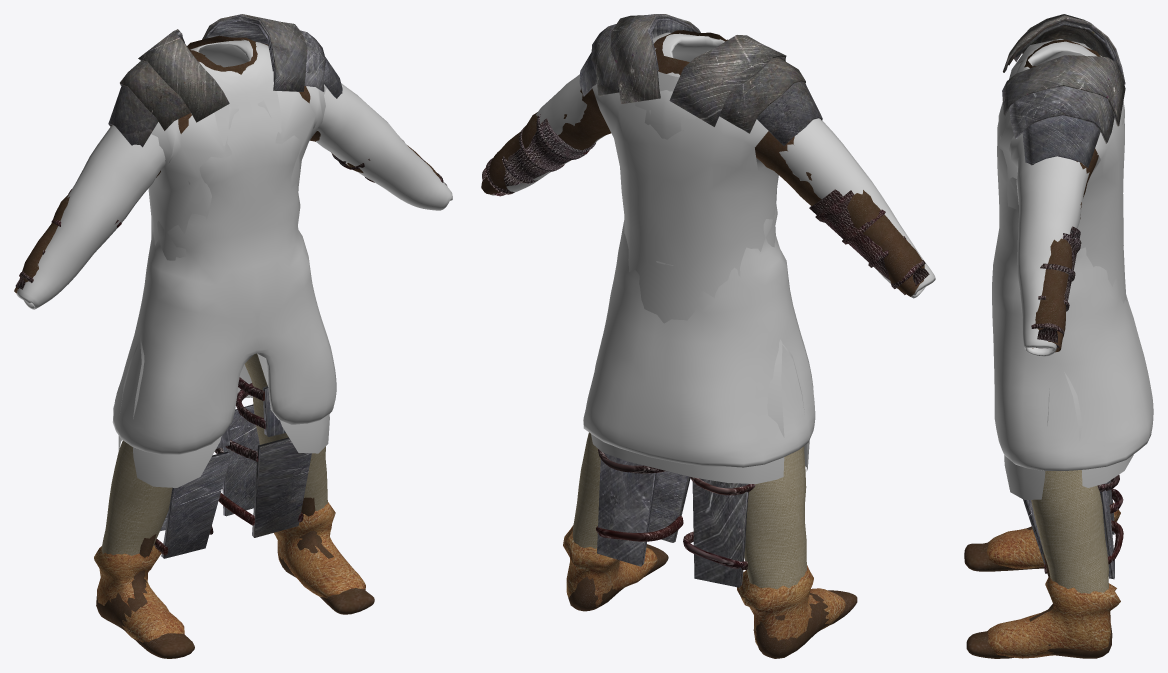
Rendered from Armor.fbx.
3 views of the same model, side by side, from view 1: azimuth 30°, elevation 25°; view 2: azimuth 150°, elevation 25°; view 3: azimuth 270°, elevation 25° (orthographic). The views are drawn at different scales.
Visible parts, largest first — view 1: Quilted jacket, Retopo_Mesh.002, Cube.002, shoulder pads, bast shoes, pants, Retopo_Mesh.003, Retopo_Mesh.001; view 2: Quilted jacket, Retopo_Mesh.002, shoulder pads, Cube.002, pants, Retopo_Mesh.001, bast shoes, Retopo_Mesh.003, Cylinder.001, Cylinder; view 3: Quilted jacket, shoulder pads, Retopo_Mesh.002, bast shoes, pants, Retopo_Mesh.001, Retopo_Mesh.003, Cube.002, Cylinder.001.
Part boxes in pixels (x1=…): Quilted jacket: x1=16, y1=40, x2=452, y2=454; Retopo_Mesh.002: x1=118, y1=39, x2=329, y2=487; Cube.002: x1=154, y1=377, x2=311, y2=558; shoulder pads: x1=108, y1=14, x2=342, y2=147; bast shoes: x1=94, y1=502, x2=365, y2=642; pants: x1=101, y1=353, x2=327, y2=555; Retopo_Mesh.003: x1=96, y1=497, x2=374, y2=658; Retopo_Mesh.001: x1=14, y1=35, x2=439, y2=293; Quilted jacket: x1=491, y1=32, x2=935, y2=467; Retopo_Mesh.002: x1=591, y1=48, x2=809, y2=483; shoulder pads: x1=579, y1=14, x2=822, y2=145; Cube.002: x1=596, y1=449, x2=755, y2=587; pants: x1=572, y1=432, x2=806, y2=589; Retopo_Mesh.001: x1=481, y1=30, x2=924, y2=296; bast shoes: x1=563, y1=525, x2=845, y2=645; Retopo_Mesh.003: x1=568, y1=544, x2=857, y2=658; Cylinder.001: x1=482, y1=114, x2=596, y2=196; Cylinder: x1=809, y1=189, x2=929, y2=294; Quilted jacket: x1=992, y1=41, x2=1153, y2=470; shoulder pads: x1=1002, y1=14, x2=1125, y2=167; Retopo_Mesh.002: x1=998, y1=39, x2=1133, y2=499; bast shoes: x1=986, y1=502, x2=1120, y2=658; pants: x1=1031, y1=470, x2=1108, y2=593; Retopo_Mesh.001: x1=1020, y1=39, x2=1100, y2=352; Retopo_Mesh.003: x1=964, y1=526, x2=1112, y2=658; Cube.002: x1=1023, y1=475, x2=1123, y2=579; Cylinder.001: x1=1031, y1=226, x2=1081, y2=348.
Size of the model in its own units: 125 by 160 by 47.65.
